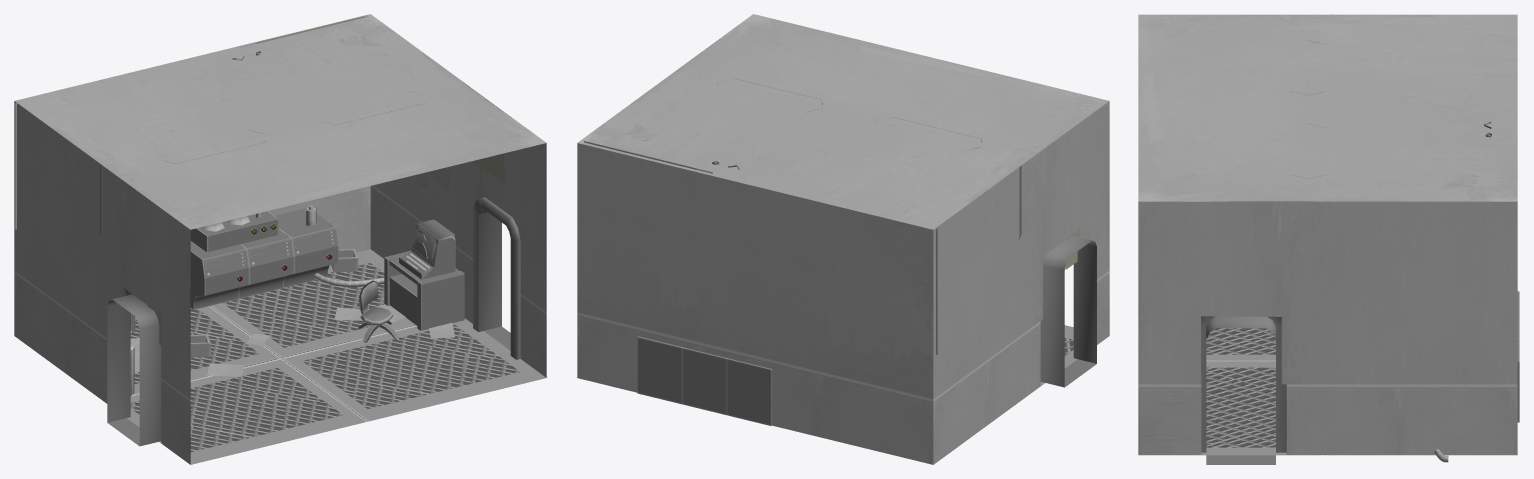
File: MSH_QuestVault_L3_R1_optimized.fbx
3 renders of one model, left to right at view 1: azimuth 30°, elevation 25°; view 2: azimuth 150°, elevation 25°; view 3: azimuth 270°, elevation 25°, orthographic. The views are drawn at different scales.
Parts seen in each view (by area): view 1: lightmap0, lightmap2, MSH_QuestVaultl_L3_R1_papers_01, MSH_QuestVault_L3_R1_Dirt_01; view 2: lightmap0, lightmap2, MSH_QuestVault_L3_R1_Dirt_01; view 3: lightmap0, lightmap2.
Part boxes in pixels (x1=…): lightmap0: x1=14, y1=51, x2=547, y2=464; lightmap2: x1=15, y1=14, x2=546, y2=229; MSH_QuestVaultl_L3_R1_papers_01: x1=130, y1=166, x2=454, y2=376; MSH_QuestVault_L3_R1_Dirt_01: x1=15, y1=15, x2=504, y2=345; lightmap0: x1=576, y1=78, x2=1109, y2=464; lightmap2: x1=577, y1=14, x2=1108, y2=229; MSH_QuestVault_L3_R1_Dirt_01: x1=584, y1=45, x2=1080, y2=354; lightmap0: x1=1138, y1=14, x2=1519, y2=464; lightmap2: x1=1138, y1=14, x2=1517, y2=201.
Size of the model in its own units: 10.3 by 5.91 by 8.01.
Materials: 4 (4 with a texture image).
